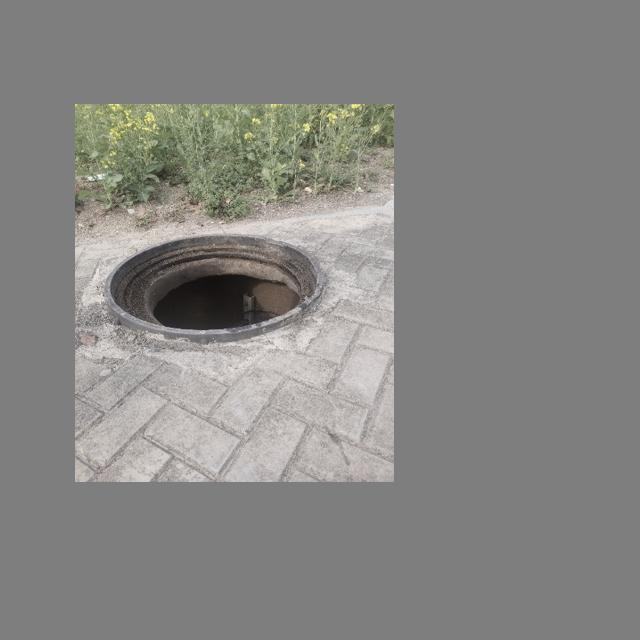lose: (105, 232, 324, 341)
